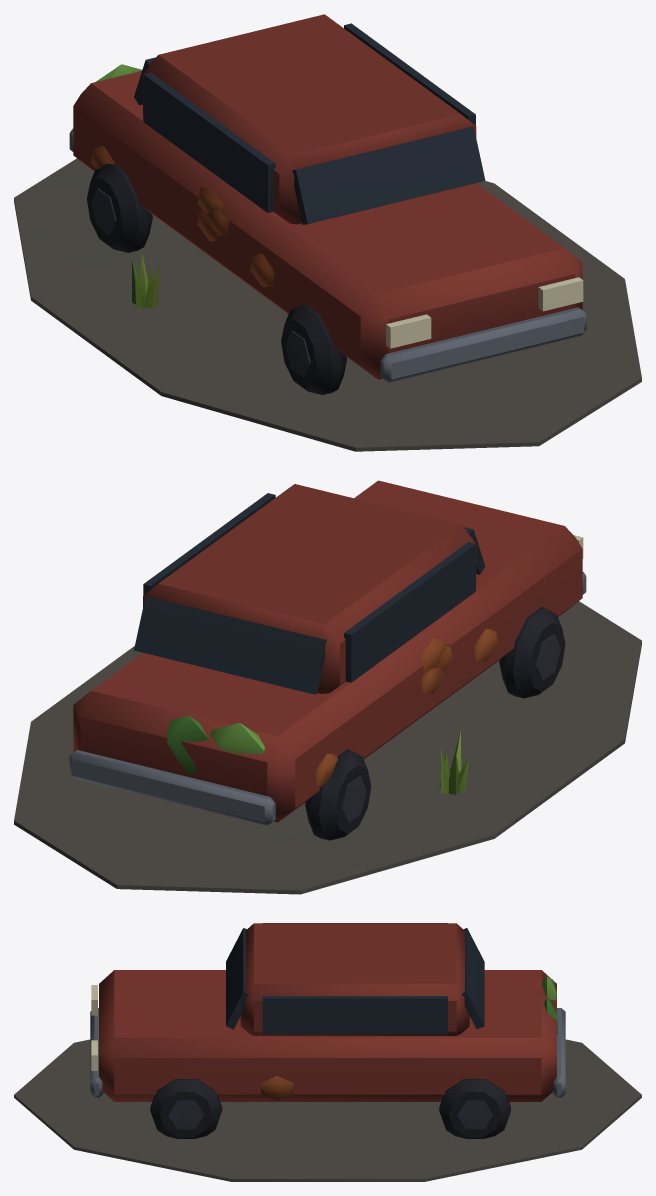
The model's file is p_st_car_1.glb.
3 views of the same model, one above another, from view 1: azimuth 30°, elevation 25°; view 2: azimuth 150°, elevation 25°; view 3: azimuth 270°, elevation 25° (orthographic). The views are drawn at different scales.
Parts seen in each view (by area): view 1: body; view 2: body; view 3: body.
Boxes of the visible parts, bbox=[...] form: body: bbox=[14, 14, 641, 451]; body: bbox=[14, 480, 641, 894]; body: bbox=[14, 923, 641, 1181].
Bounding box in the file's own units: 3.65 × 1.49 × 5.76.
